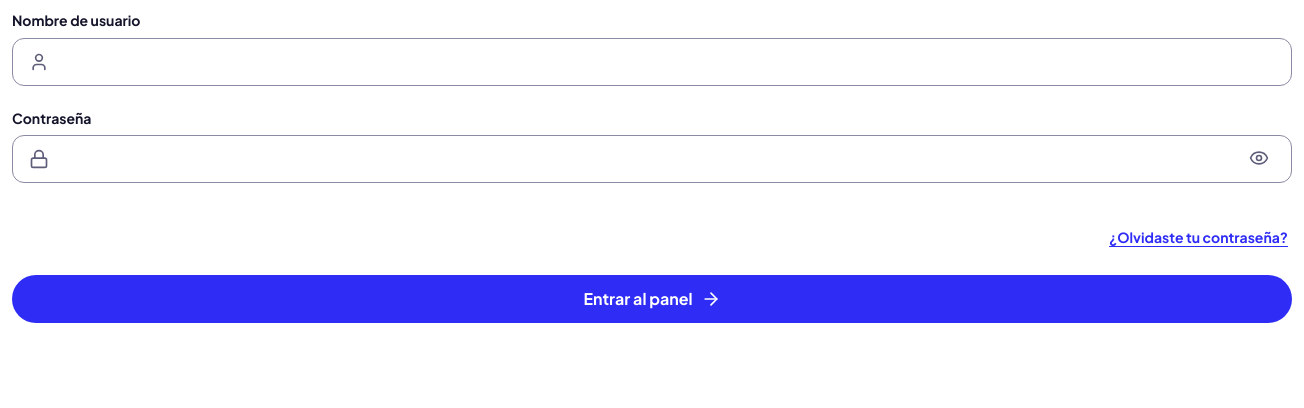
Test: LoginForm: envío › 429 muestra el mensaje de límite de peticiones
Type "lucia" into the field labelled "Nombre de usuario" at point(666, 62), box [57, 40, 1275, 84]
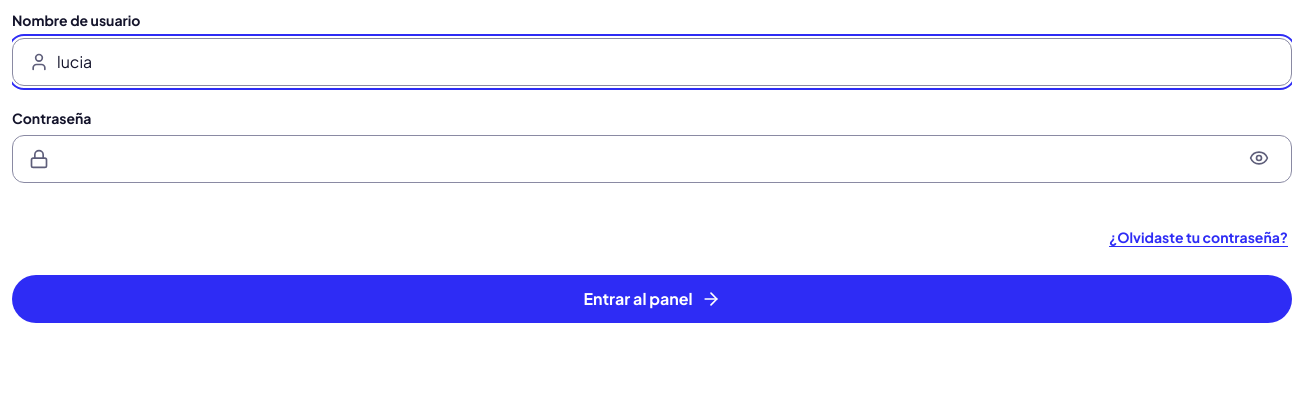
Type "correcta-123" into the password field labelled "Contraseña" at point(646, 159), box [57, 137, 1235, 181]
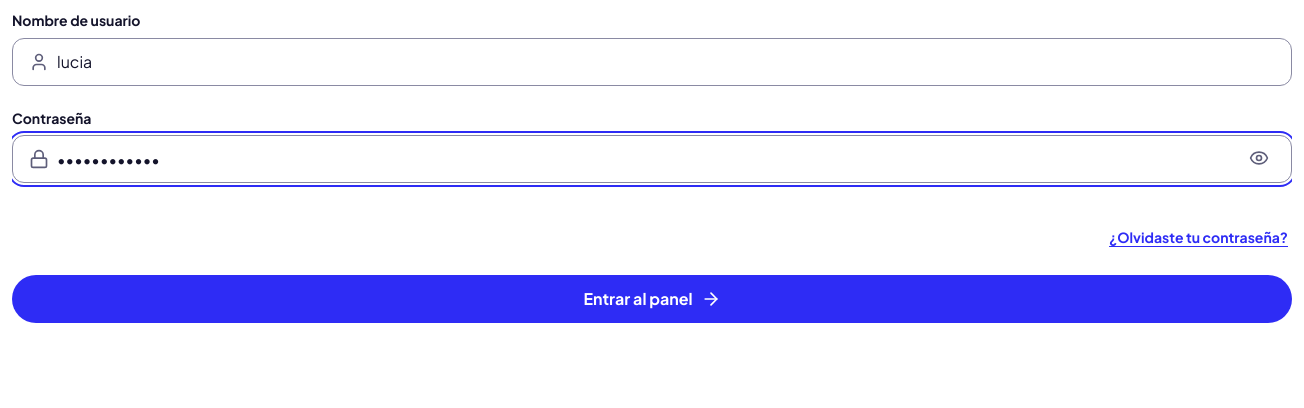
Click the button with test id "login-submit" at point(652, 299), box [12, 275, 1292, 323]
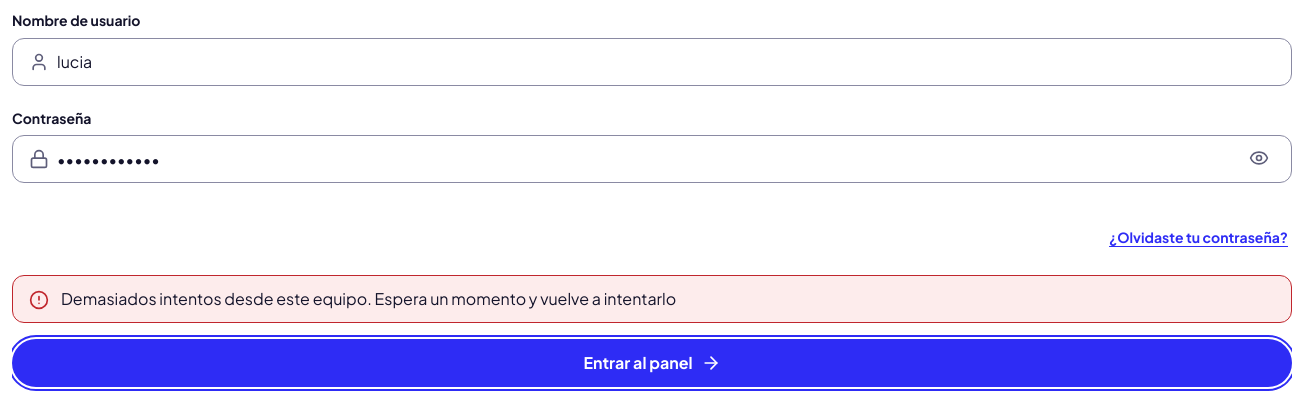
Check: the message with test id "login-error" reads "Demasiados intentos desde este equipo. Espera un momento y vuelve a intentarlo", box [61, 288, 676, 309]
